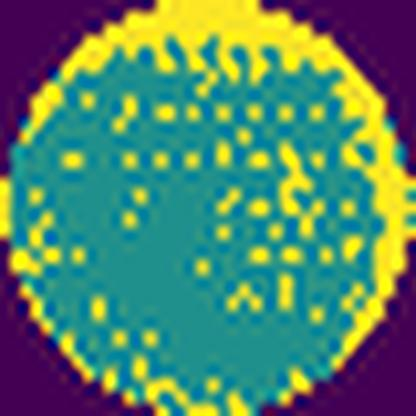Edge-Loc: (53, 0, 416, 365)
